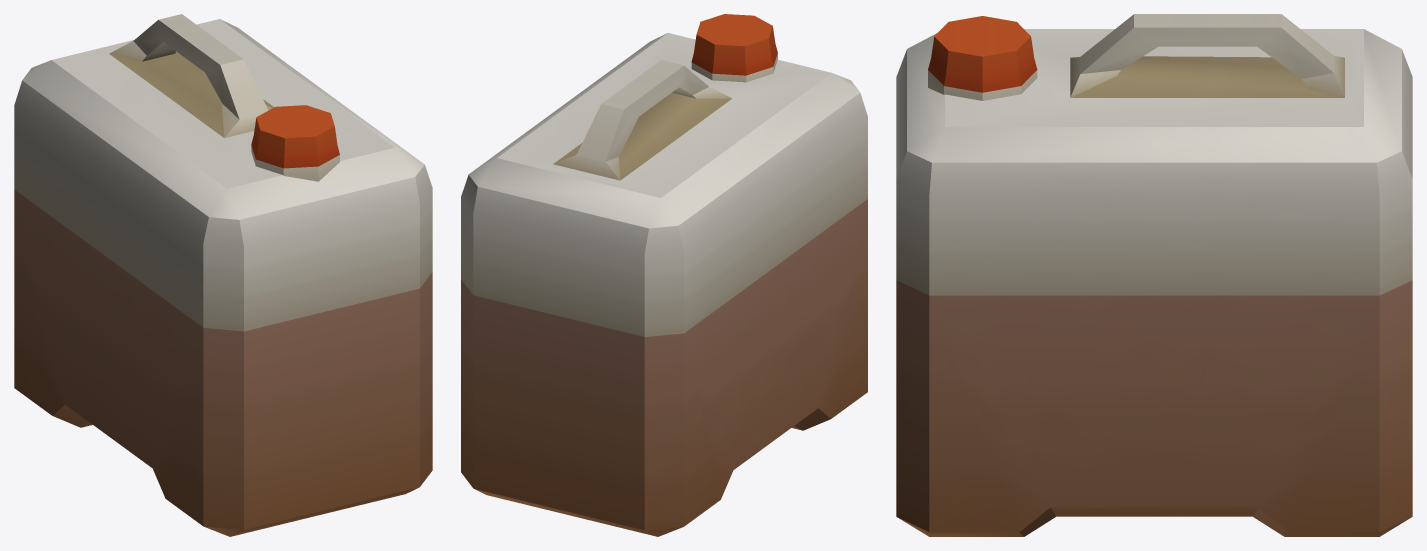
The model's file is SM_PlasticCan_01.fbx.
3 renders of one model, left to right at view 1: azimuth 30°, elevation 25°; view 2: azimuth 150°, elevation 25°; view 3: azimuth 270°, elevation 25°, orthographic. The views are drawn at different scales.
Visible parts, largest first — view 1: SM_PlasticCan_01; view 2: SM_PlasticCan_01; view 3: SM_PlasticCan_01.
Part boxes in pixels (box(x1,y1,x2,y2)): SM_PlasticCan_01: box(14, 14, 432, 536); SM_PlasticCan_01: box(461, 14, 867, 536); SM_PlasticCan_01: box(896, 14, 1412, 536).
Size of the model in its own units: 0.336 by 0.5472 by 0.5506.
